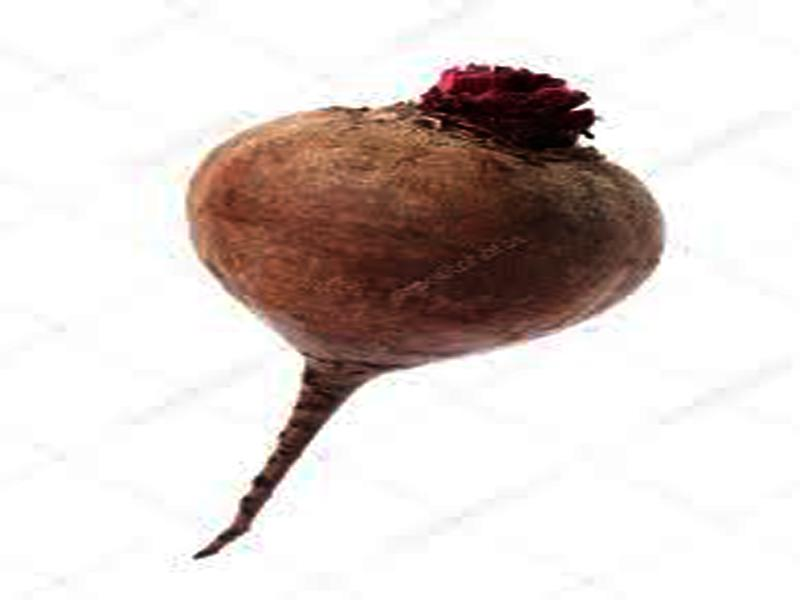Beet: (186, 67, 672, 558)
